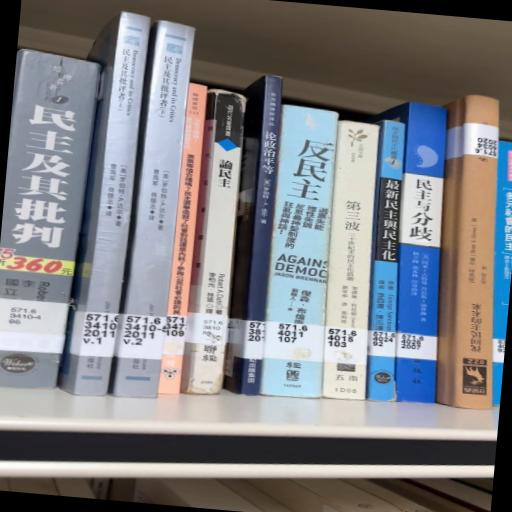reverse: (437, 96, 499, 410)
